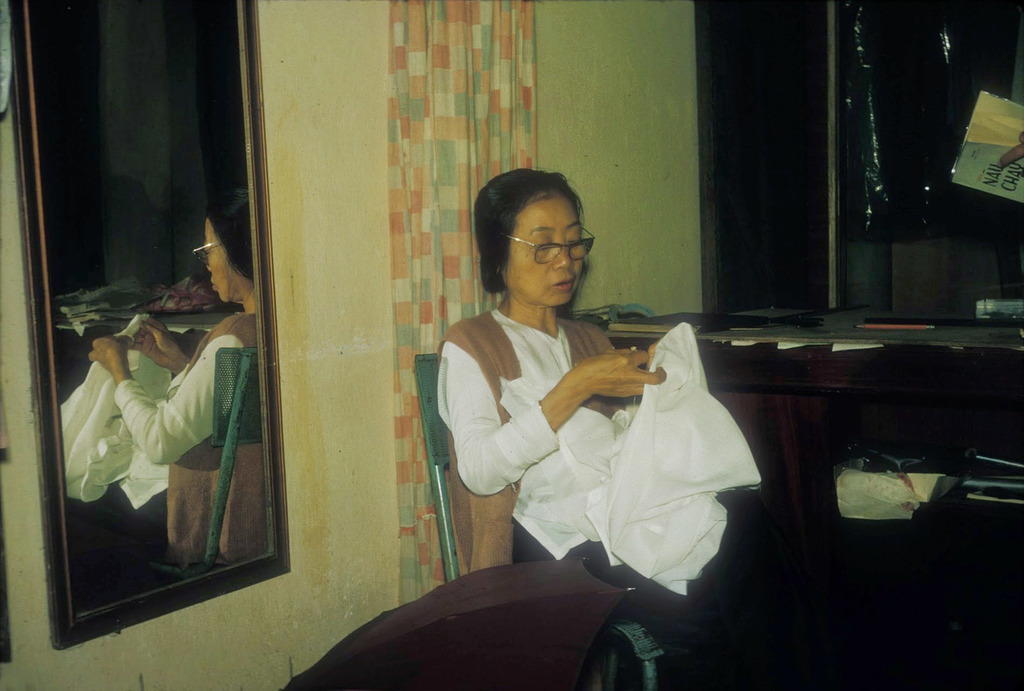Human_hand: (573, 350, 670, 414), (644, 332, 666, 373)
